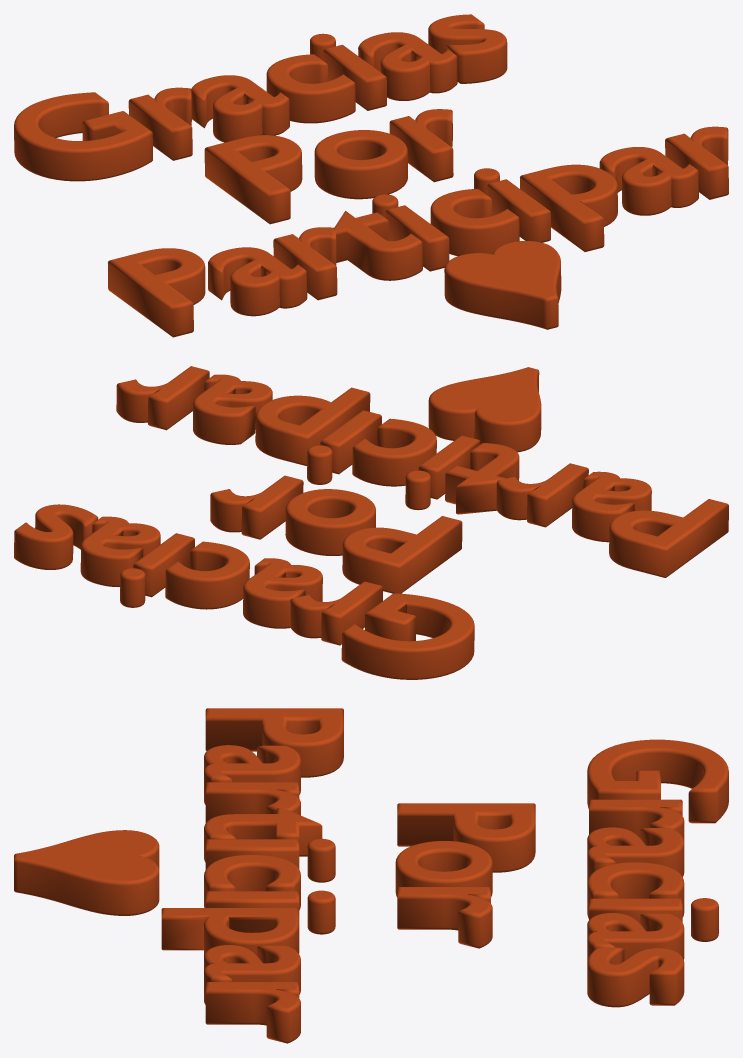
Rendered from graciaspp.glb.
The picture shows the model from 3 angles, top to bottom: view 1: azimuth 30°, elevation 25°; view 2: azimuth 150°, elevation 25°; view 3: azimuth 270°, elevation 25°; orthographic projection. The views are drawn at different scales.
Visible parts, largest first — view 1: GraciasPorParticipar; view 2: GraciasPorParticipar; view 3: GraciasPorParticipar.
Boxes of the visible parts, <box> form: GraciasPorParticipar: <box>14,14,728,337</box>; GraciasPorParticipar: <box>14,366,728,679</box>; GraciasPorParticipar: <box>14,708,728,1043</box>.
Size of the model in its own units: 3.84 by 0.2451 by 3.73.
